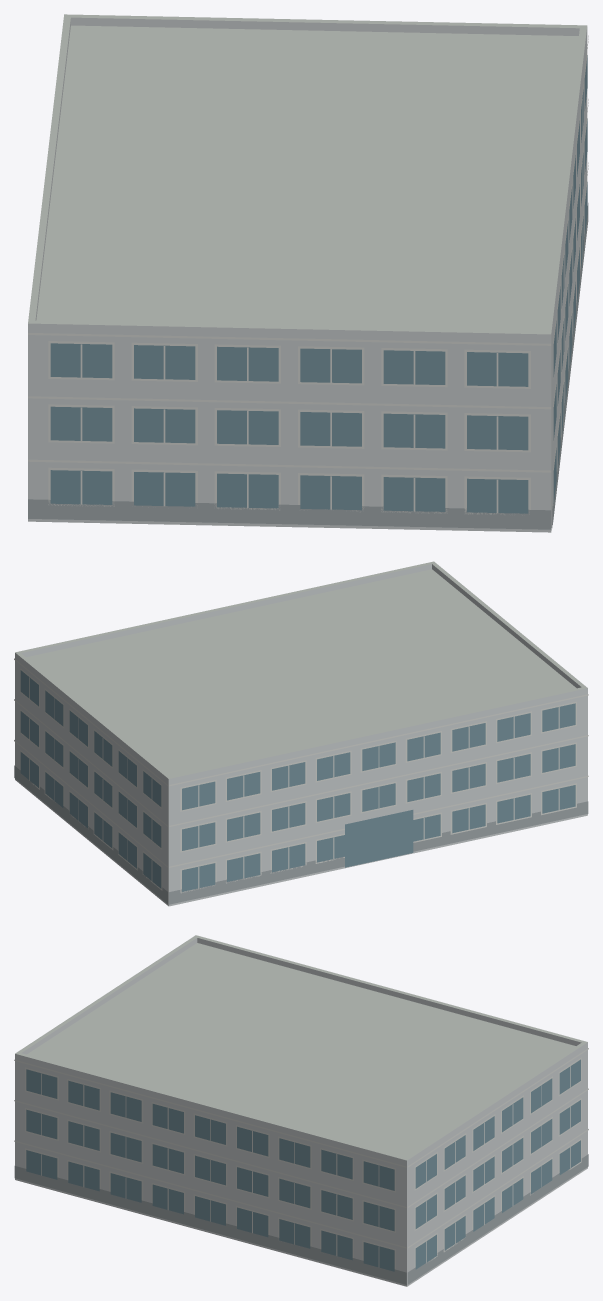
Rendered from public-2bf69616-e924-4d6e-a2ba-509685505dca.glb.
3 views of the same model, one above another, from view 1: azimuth 30°, elevation 25°; view 2: azimuth 150°, elevation 25°; view 3: azimuth 270°, elevation 25° (orthographic). The views are drawn at different scales.
Parts seen in each view (by area): view 1: public-2bf69616-e924-4d6e-a2ba-509685505dca; view 2: public-2bf69616-e924-4d6e-a2ba-509685505dca; view 3: public-2bf69616-e924-4d6e-a2ba-509685505dca.
Part boxes in pixels (x1,y1,x2,y2): public-2bf69616-e924-4d6e-a2ba-509685505dca: (28,14,588,532); public-2bf69616-e924-4d6e-a2ba-509685505dca: (14,561,588,906); public-2bf69616-e924-4d6e-a2ba-509685505dca: (14,935,588,1286).
Bounding box in the file's own units: 35.16 × 9.15 × 37.77.
